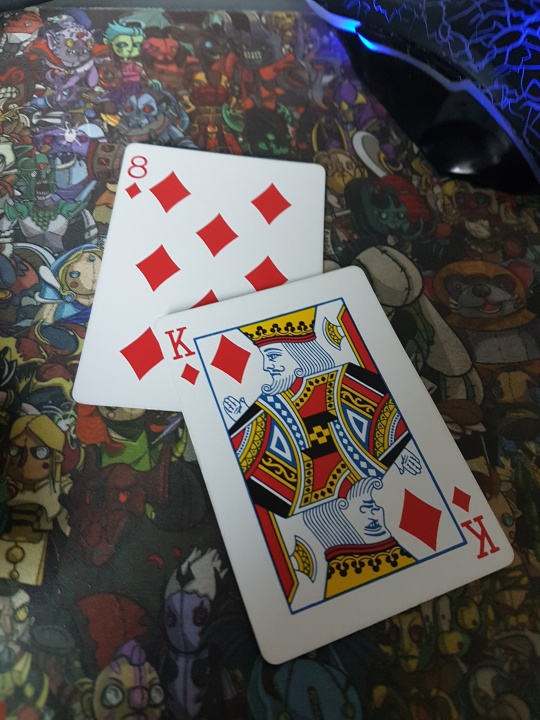8: (66, 142, 326, 410)
king: (157, 265, 513, 665)
